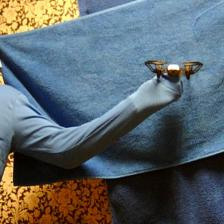drone: (142, 60, 204, 80)
